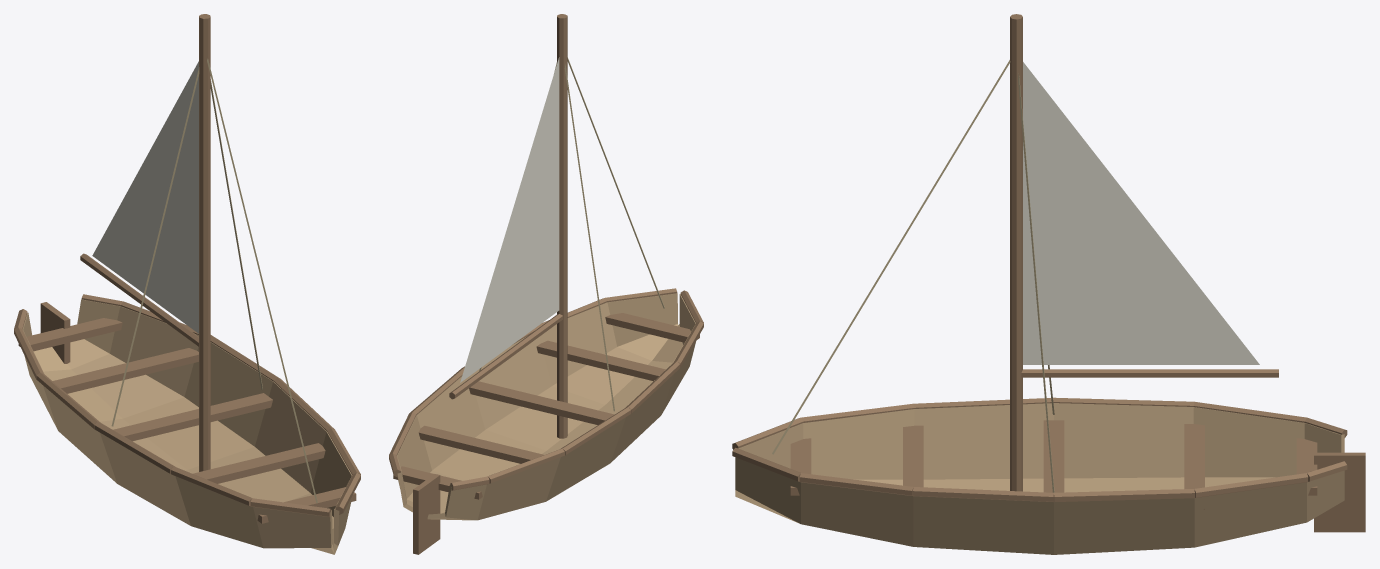
File: sloop.glb
The picture shows the model from 3 angles, left to right: view 1: azimuth 30°, elevation 25°; view 2: azimuth 150°, elevation 25°; view 3: azimuth 270°, elevation 25°; orthographic projection. The views are drawn at different scales.
Parts seen in each view (by area): view 1: Hull, Sail, Mast, Seat.002, Seat.003, Seat.001, Seat.004, Boom, Rigging.002, Rudder, Rigging, Gunwale.004 (+10 smaller); view 2: Hull, Sail, Mast, Seat.002, Rudder, Seat.003, Seat.001, Seat, Boom, Rigging, Gunwale.006, Seat.004 (+6 smaller); view 3: Hull, Sail, Mast, Rudder, Boom, Seat.002, Gunwale.007, Gunwale.005, Seat.003, Seat.001, Gunwale.009, Gunwale.003 (+5 smaller).
Boxes of the visible parts, x1,y1,x2,y2 form: Hull: (22,299,352,554); Sail: (92,61,198,333); Mast: (199,14,210,471); Seat.002: (113,393,272,441); Seat.003: (52,348,198,393); Seat.001: (192,443,325,483); Seat.004: (18,318,122,351); Boom: (80,253,198,346); Rigging.002: (207,58,317,503); Rudder: (40,302,70,363); Rigging: (111,67,199,426); Gunwale.004: (94,421,175,473); Hull: (397,293,695,520); Sail: (460,57,559,382); Mast: (557,14,567,438); Seat.002: (469,381,614,424); Rudder: (413,474,440,554); Seat.003: (418,425,543,463); Seat.001: (536,340,665,381); Seat: (605,313,699,342); Boom: (449,314,562,399); Rigging: (564,64,614,411); Gunwale.006: (561,407,631,455); Seat.004: (393,466,482,499); Hull: (735,403,1344,554); Sail: (1023,62,1259,364); Mast: (1010,14,1022,491); Rudder: (1314,452,1365,532); Boom: (1021,369,1278,377); Seat.002: (1043,420,1064,492); Gunwale.007: (1054,489,1194,501); Gunwale.005: (913,487,1053,501); Seat.003: (1184,424,1204,509); Seat.001: (903,425,923,487); Gunwale.009: (1194,473,1308,497); Gunwale.003: (799,473,913,495).
Bounding box in the file's own units: 2.5 × 6.05 × 6.76.
